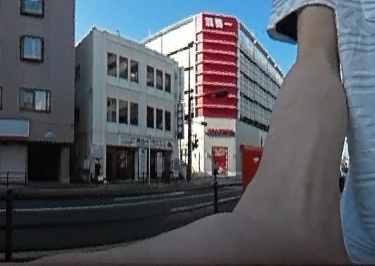person: (93, 155, 103, 182), (211, 159, 218, 179)
